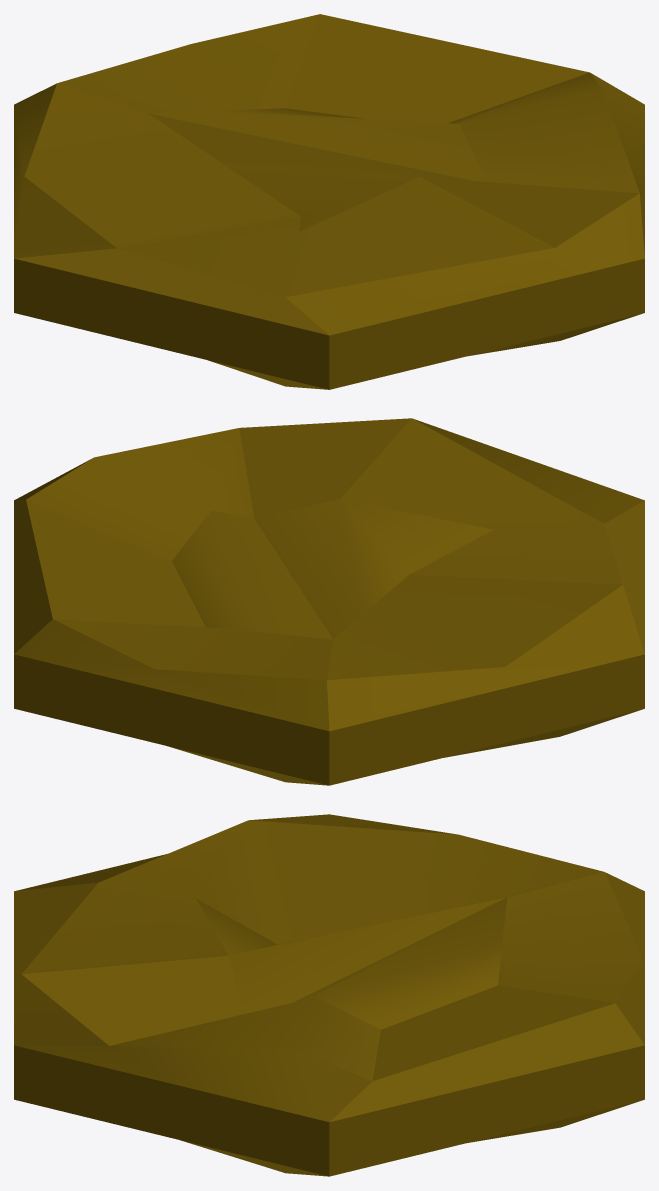
The model's file is tuileTerre.fbx.
3 renders of one model, top to bottom at view 1: azimuth 30°, elevation 25°; view 2: azimuth 150°, elevation 25°; view 3: azimuth 270°, elevation 25°, orthographic.
Visible parts, largest first — view 1: tuileTerre; view 2: tuileTerre; view 3: tuileTerre.
Part boxes in pixels (x1,y1,x2,y2): tuileTerre: [14, 14, 644, 389]; tuileTerre: [14, 418, 644, 785]; tuileTerre: [14, 814, 644, 1176].
Bounding box in the file's own units: 217 × 44.5 × 188.
